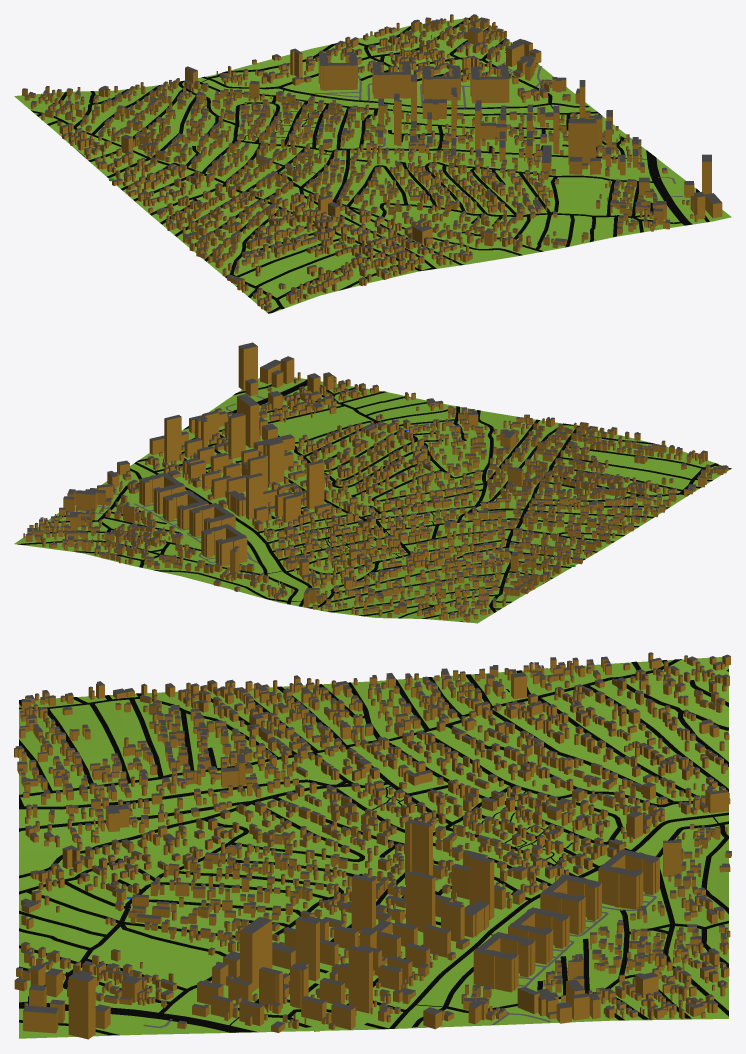
File: tile_04_06.glb
The picture shows the model from 3 angles, top to bottom: view 1: azimuth 30°, elevation 25°; view 2: azimuth 150°, elevation 25°; view 3: azimuth 270°, elevation 25°; orthographic projection. The views are drawn at different scales.
Visible parts, largest first — view 1: Ub_small.osm_buildings_04_06, Terrain_04_06, Ub_small.osm_roads_residential_04_06, Ub_small.osm_roads_primary_04_06, Ub_small.osm_roads_service_04_06; view 2: Ub_small.osm_buildings_04_06, Terrain_04_06, Ub_small.osm_roads_residential_04_06, Ub_small.osm_roads_tertiary_04_06; view 3: Ub_small.osm_buildings_04_06, Terrain_04_06, Ub_small.osm_roads_residential_04_06, Ub_small.osm_roads_tertiary_04_06, Ub_small.osm_roads_primary_04_06, Ub_small.osm_roads_service_04_06.
Part boxes in pixels (<box>): Ub_small.osm_buildings_04_06: <box>22,14,722,311</box>; Terrain_04_06: <box>14,17,731,313</box>; Ub_small.osm_roads_residential_04_06: <box>31,17,709,313</box>; Ub_small.osm_roads_primary_04_06: <box>646,150,692,225</box>; Ub_small.osm_roads_service_04_06: <box>311,62,682,197</box>; Ub_small.osm_buildings_04_06: <box>23,342,728,622</box>; Terrain_04_06: <box>14,377,730,623</box>; Ub_small.osm_roads_residential_04_06: <box>17,384,731,621</box>; Ub_small.osm_roads_tertiary_04_06: <box>134,462,312,606</box>; Ub_small.osm_buildings_04_06: <box>14,652,731,1039</box>; Terrain_04_06: <box>19,657,728,1038</box>; Ub_small.osm_roads_residential_04_06: <box>19,659,728,1035</box>; Ub_small.osm_roads_tertiary_04_06: <box>389,812,728,1028</box>; Ub_small.osm_roads_primary_04_06: <box>19,1002,258,1032</box>; Ub_small.osm_roads_service_04_06: <box>143,878,656,1028</box>.
Size of the model in its own units: 995 by 123 by 941.
